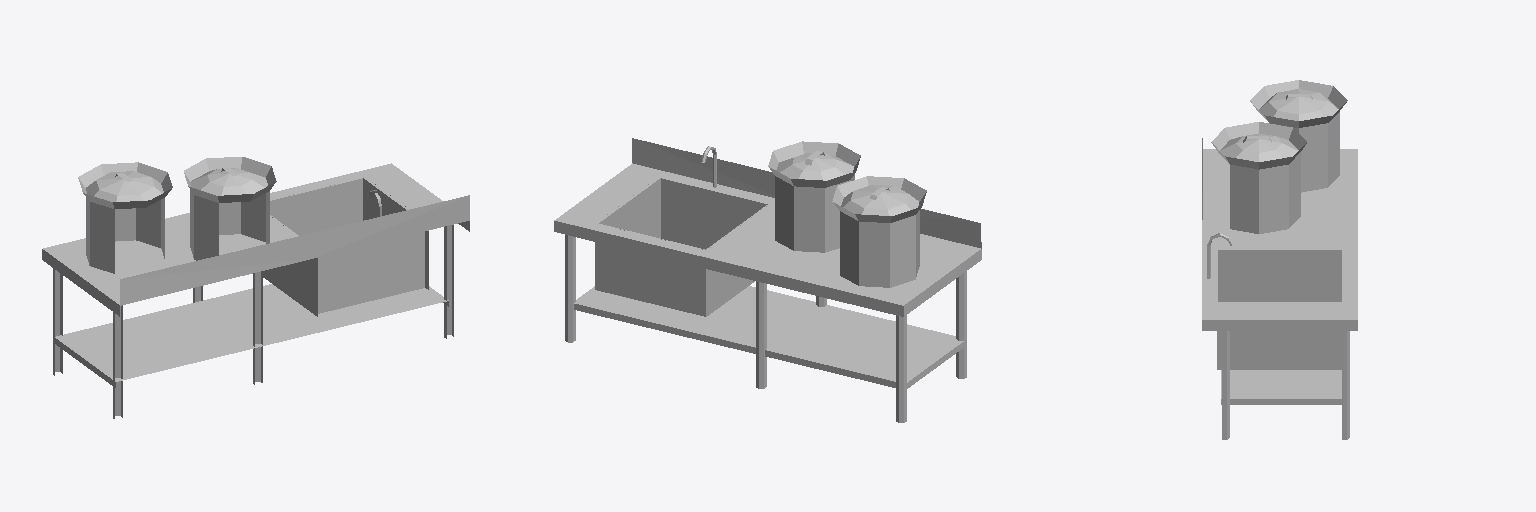
The model's file is kitchensink.obj.
The picture shows the model from 3 angles: view 1: azimuth 30°, elevation 25°; view 2: azimuth 150°, elevation 25°; view 3: azimuth 270°, elevation 25°; orthographic projection.
Visible parts, largest first — view 1: Cube.001_Cube; view 2: Cube.001_Cube; view 3: Cube.001_Cube.
Part boxes in pixels (left/top/right/bottom): Cube.001_Cube: left=42, top=157, right=469, bottom=418; Cube.001_Cube: left=554, top=138, right=981, bottom=422; Cube.001_Cube: left=1202, top=80, right=1357, bottom=439.
Bounding box in the file's own units: 6.52 × 3.61 × 2.52.